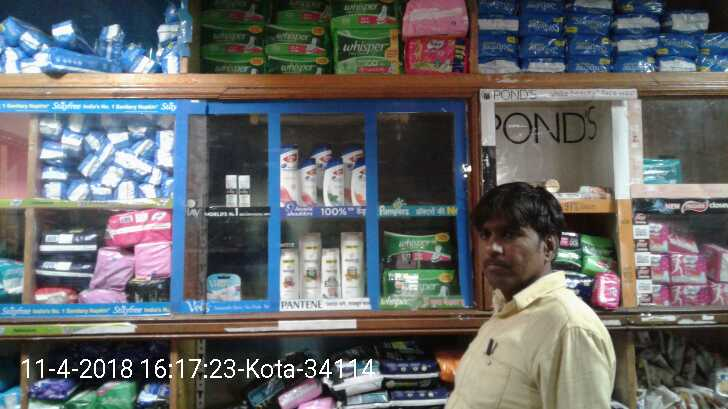venus: (208, 272, 244, 303)
